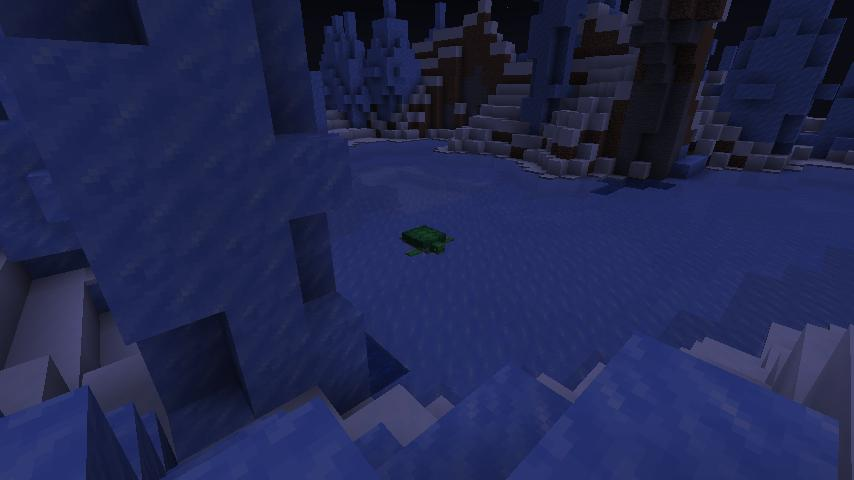turtle: (397, 221, 454, 257)
